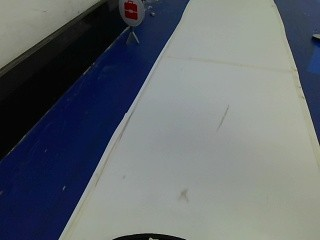company: (116, 0, 146, 26)
